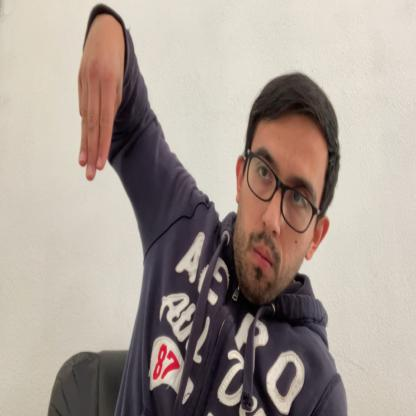M: (78, 16, 124, 180)
